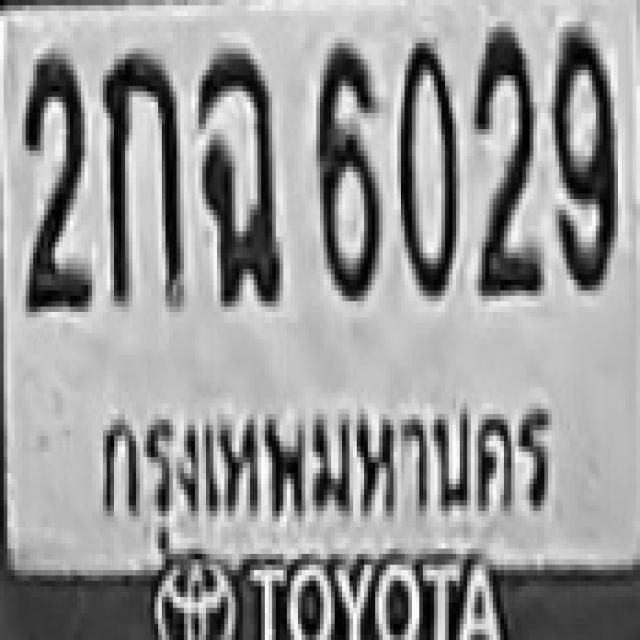0: (397, 37, 456, 296)
10GorGai: (101, 48, 182, 306)
18ChorChing: (195, 46, 279, 304)
2: (470, 24, 540, 293), (20, 51, 86, 309)
6: (316, 40, 379, 298)
9: (548, 22, 614, 285)
Bangkok: (82, 382, 578, 559)
